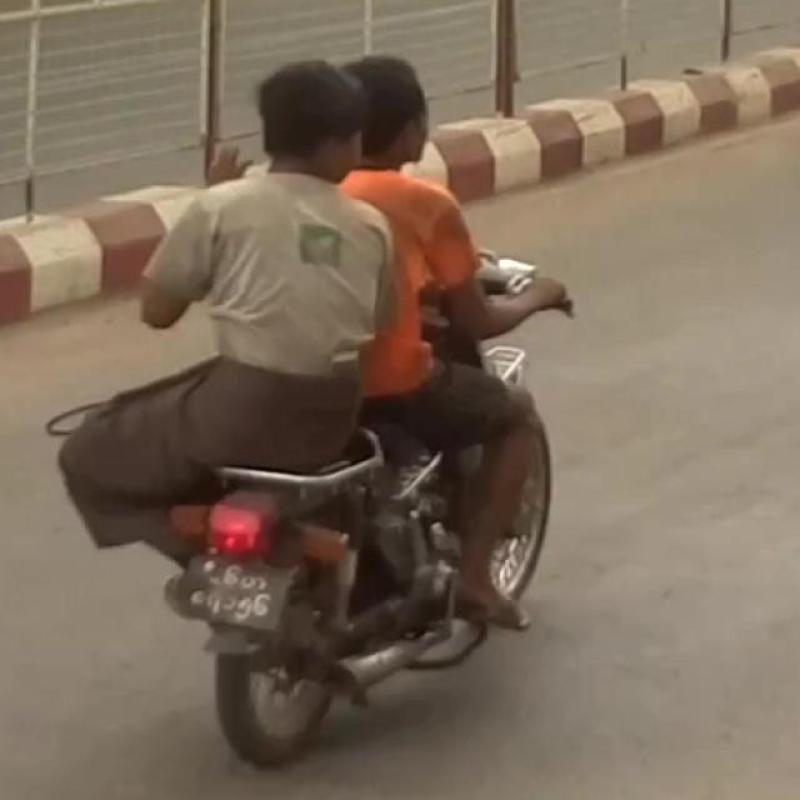nohelmet: (241, 30, 367, 198)
